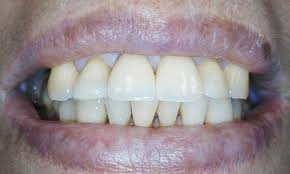normal: (76, 100, 107, 125), (206, 100, 232, 123), (180, 101, 205, 124), (56, 99, 75, 123)
yellow: (107, 51, 157, 101), (156, 54, 200, 101), (76, 61, 110, 99), (47, 62, 79, 100), (200, 57, 227, 101), (224, 61, 248, 99), (132, 100, 156, 128), (107, 100, 131, 125), (157, 101, 179, 126), (231, 100, 241, 121)
